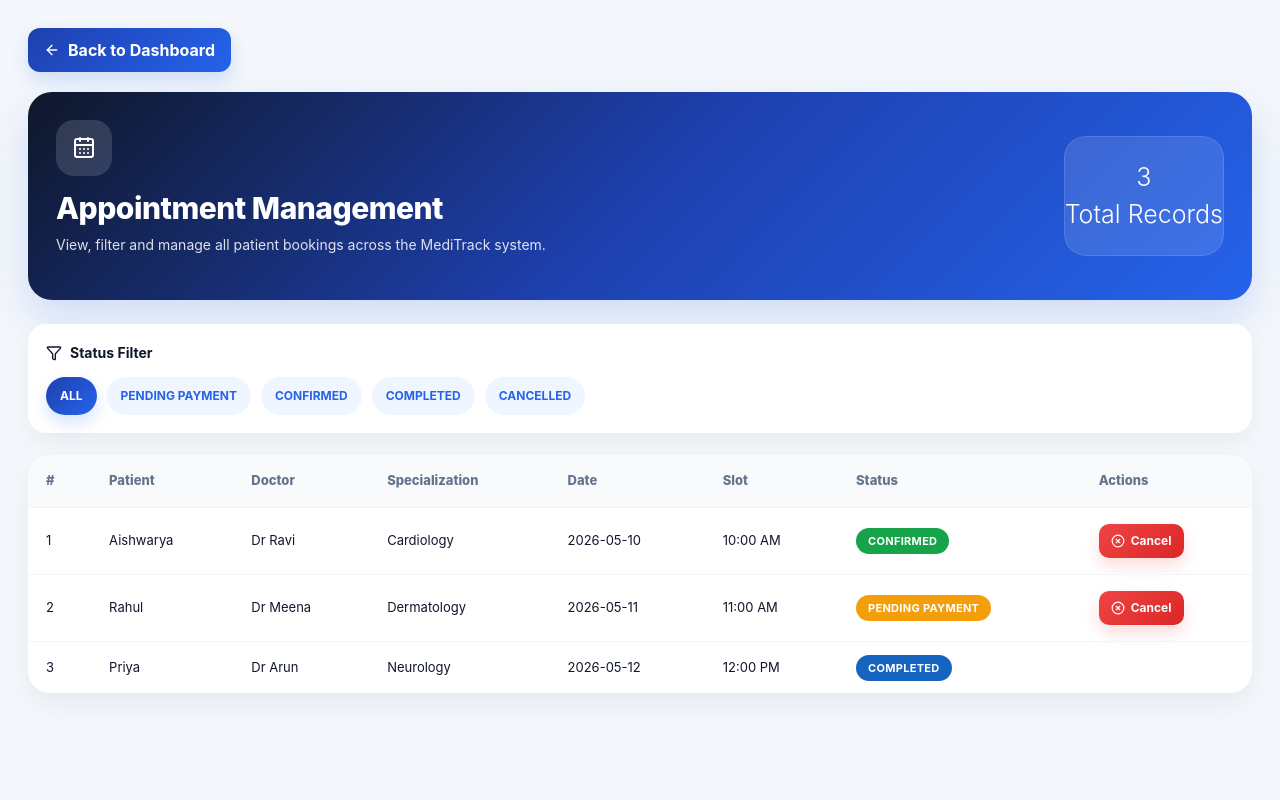
Test case: AdminAppointments › filter works
This screenshot has width=1280, height=800.
Expected: the text "Aishwarya" is shown, [91,507,233,574]
Expected: the text "Rahul" is shown, [91,574,233,641]
Click the button "COMPLETED". click: coordinates (423, 396)
box: [372,377,475,415]
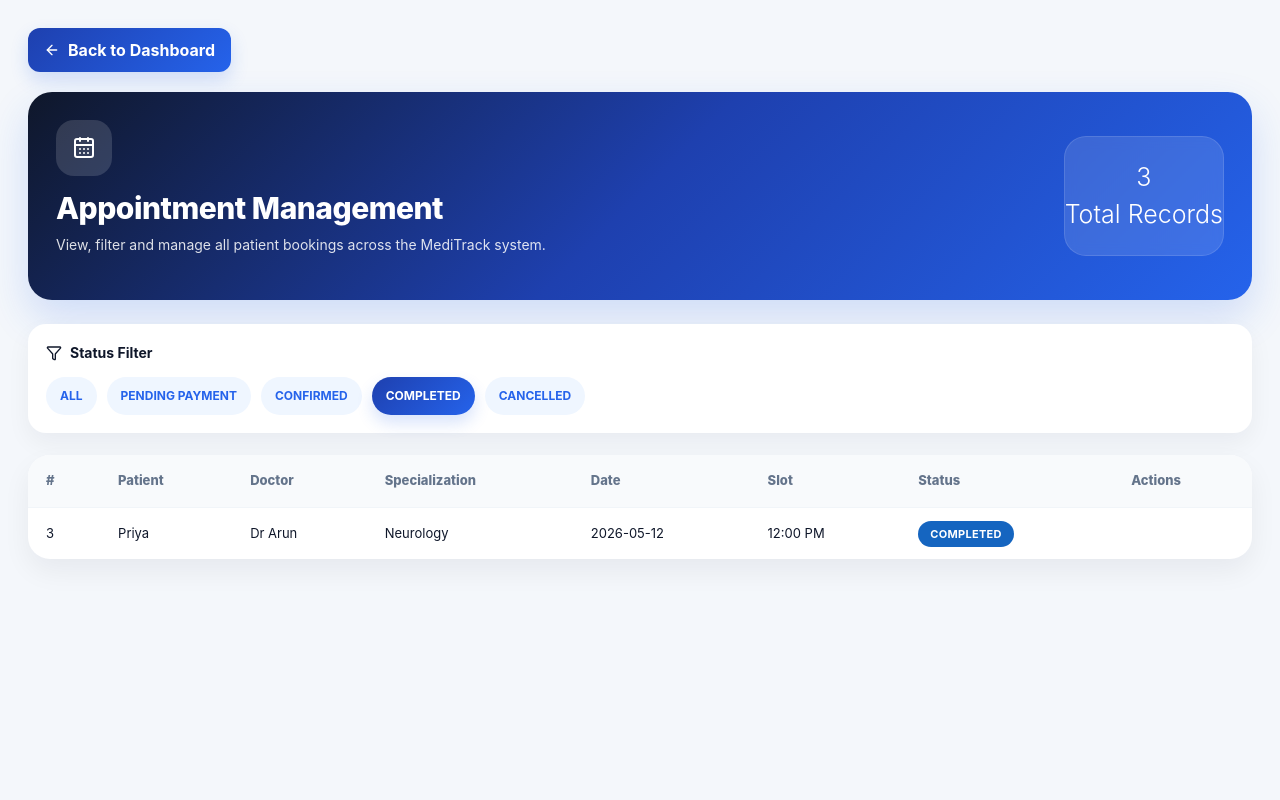
Expected: the text "Priya" is shown, [100,507,232,559]
Expected: the text "Rahul" is gone
